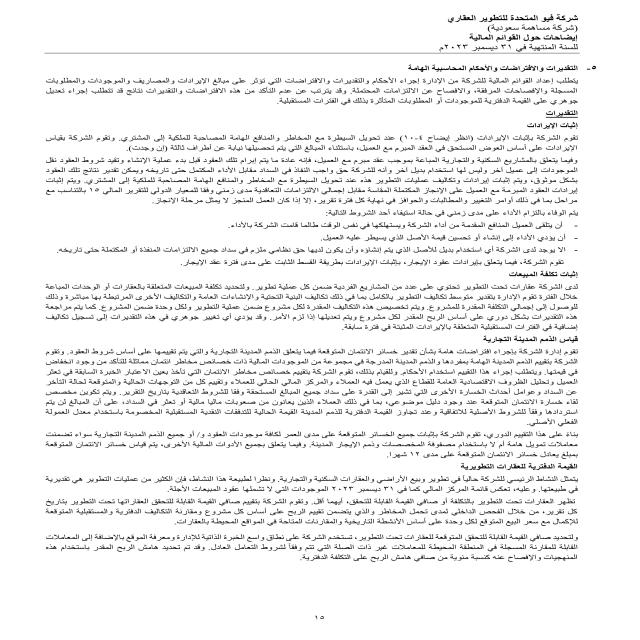notes: (449, 32, 577, 42)
text: (31, 58, 608, 561)
